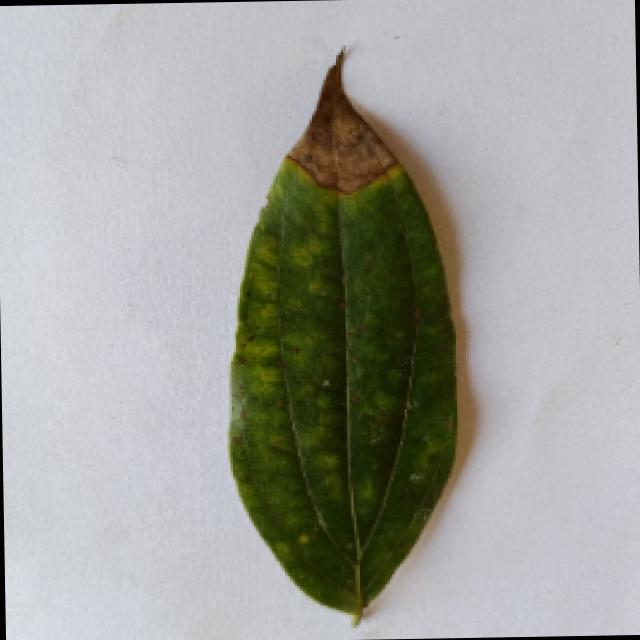footrot: (220, 45, 470, 622)
